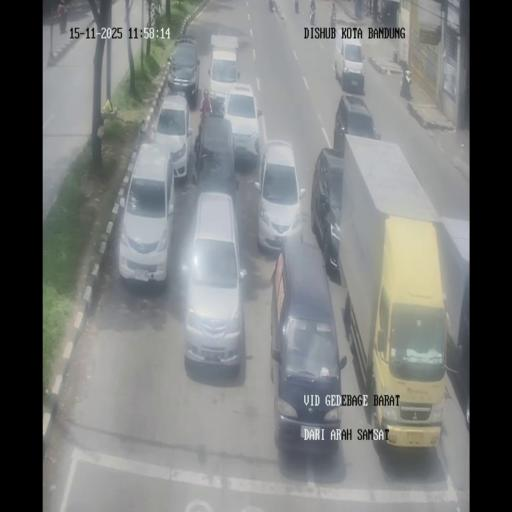3: (334, 137, 461, 448), (210, 33, 238, 53)
car: (270, 238, 343, 454), (182, 190, 246, 369), (118, 142, 176, 284), (255, 136, 303, 254), (312, 148, 345, 280), (152, 94, 194, 184), (222, 81, 261, 165), (335, 93, 380, 152), (166, 36, 201, 107), (335, 34, 365, 92)
truck: (209, 92, 227, 117), (399, 66, 412, 100), (273, 1, 284, 20), (58, 11, 66, 34), (365, 1, 375, 18), (329, 2, 336, 26), (375, 3, 383, 22), (316, 7, 322, 27), (310, 7, 316, 24), (269, 0, 275, 12), (295, 1, 300, 14)
